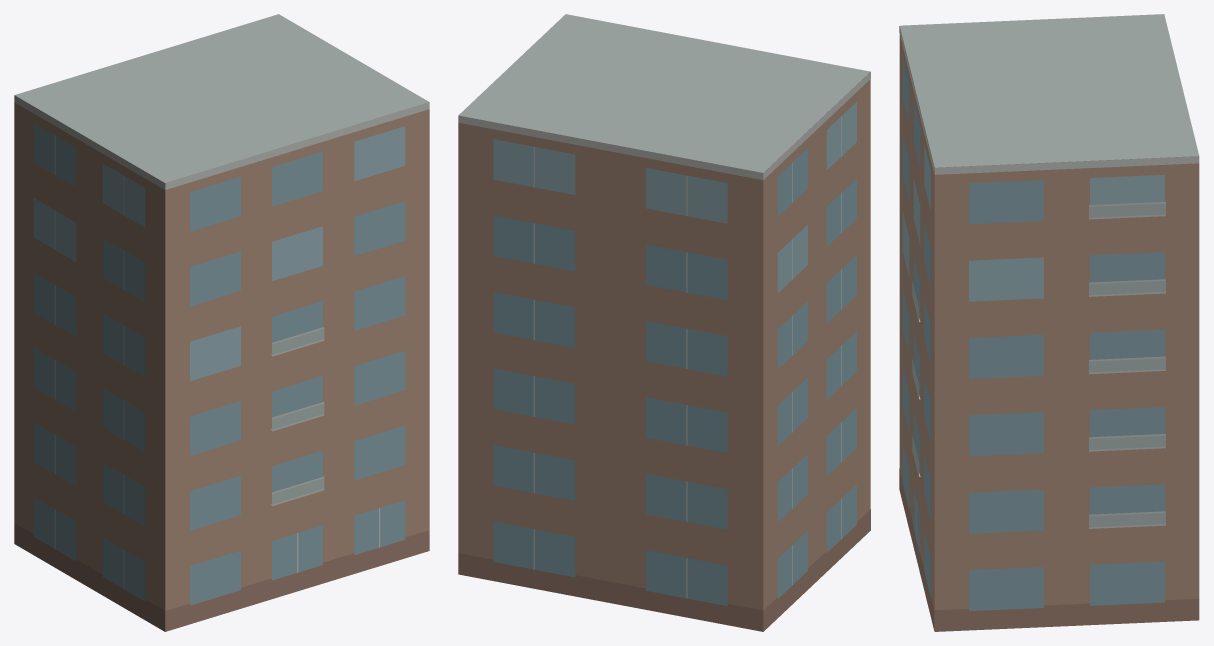
Rendered from survey-upis-32738778.glb.
The picture shows the model from 3 angles, left to right: view 1: azimuth 30°, elevation 25°; view 2: azimuth 150°, elevation 25°; view 3: azimuth 270°, elevation 25°; orthographic projection. The views are drawn at different scales.
Parts seen in each view (by area): view 1: survey-upis-32738778.tmp; view 2: survey-upis-32738778.tmp; view 3: survey-upis-32738778.tmp.
Boxes of the visible parts, x1,y1,x2,y2 form: survey-upis-32738778.tmp: (14, 14, 429, 631); survey-upis-32738778.tmp: (458, 14, 870, 631); survey-upis-32738778.tmp: (899, 14, 1199, 631).
Size of the model in its own units: 11.08 by 15.6 by 9.14.
